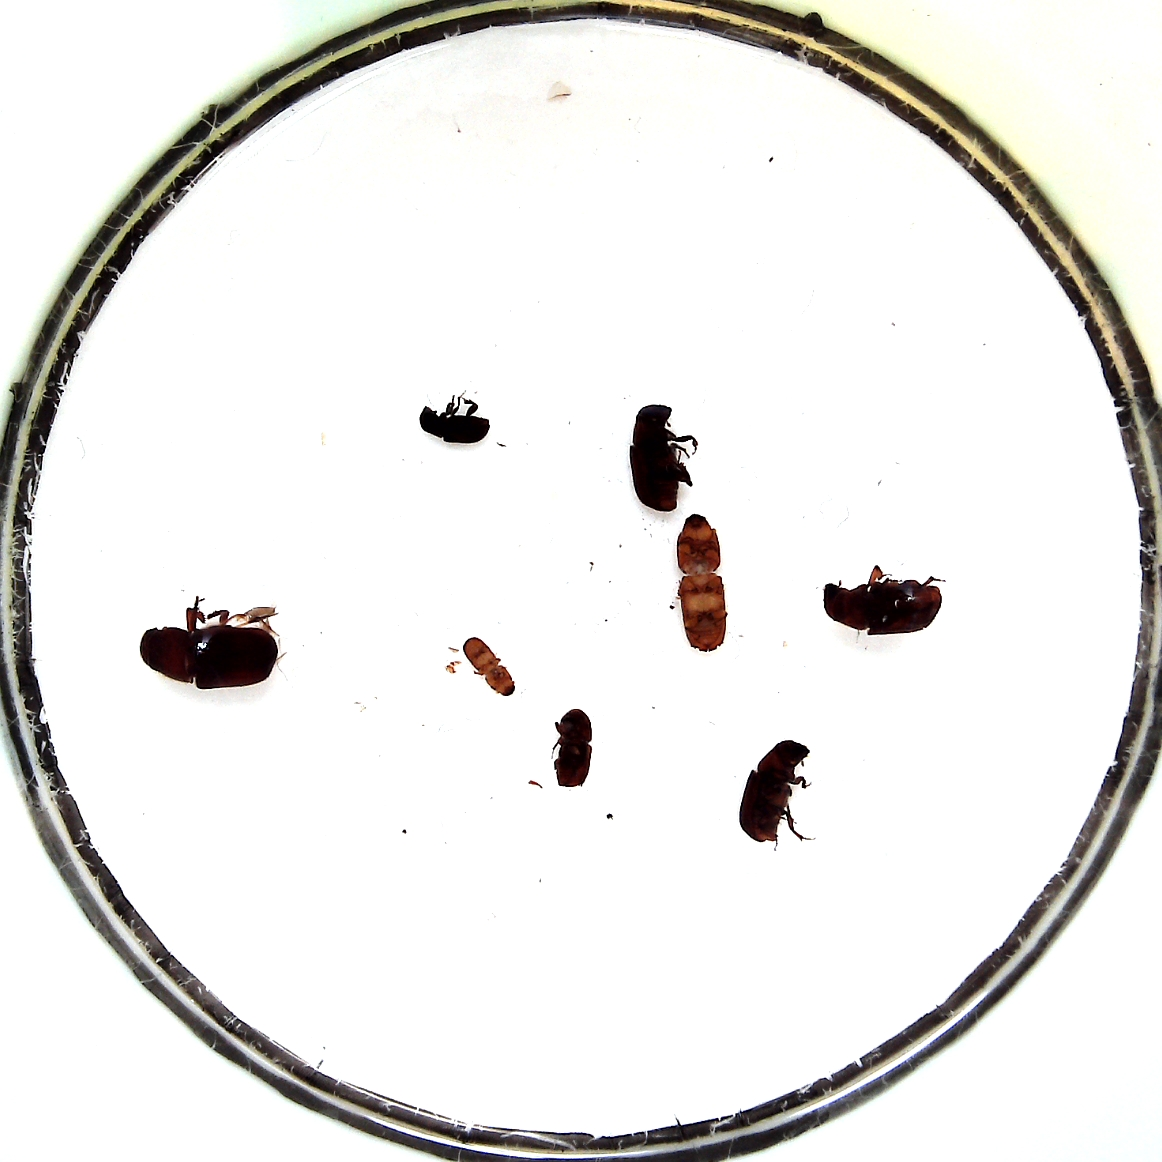Boerner: (674, 508, 733, 655)
Leconte: (133, 601, 279, 692), (818, 569, 943, 637), (736, 737, 810, 846), (627, 400, 688, 511)
Linnaeus: (551, 705, 595, 792)
acuminatus: (455, 633, 522, 698)
armandi: (415, 395, 492, 447)
